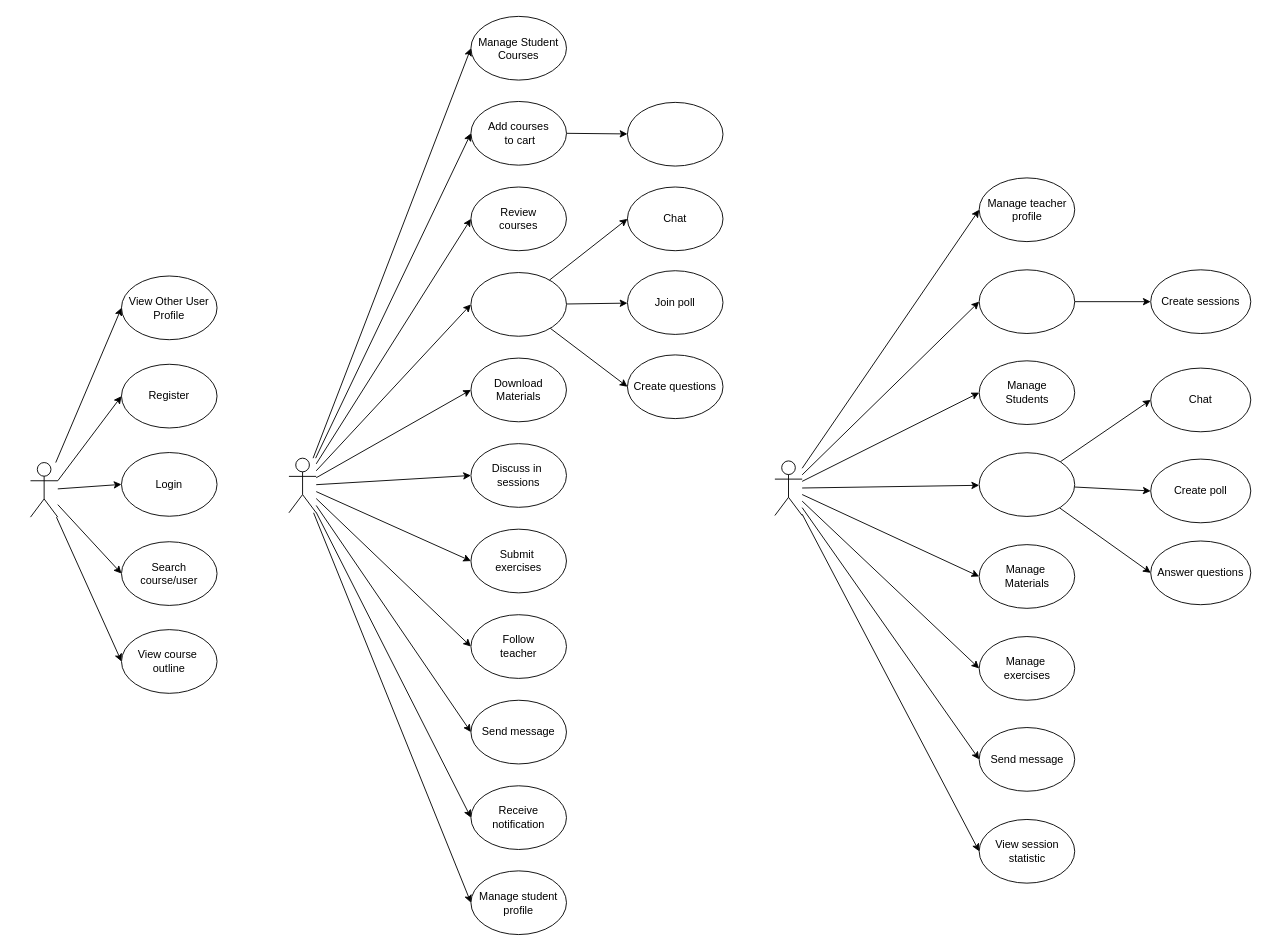
Image size: 1267x950. Some labels were removed from this diagram. Each missing label, with the centre of its shape:
"Anonymous" goes at pixel 44 489.
"Attend livestream class" goes at pixel 518 304.
"Create Courses" goes at pixel 1026 301.
"Livestream Teaching" goes at pixel 1026 484.
"Purchase courses" goes at pixel 675 133.
"Student" goes at pixel 302 485.
"Teacher" goes at pixel 788 488.
